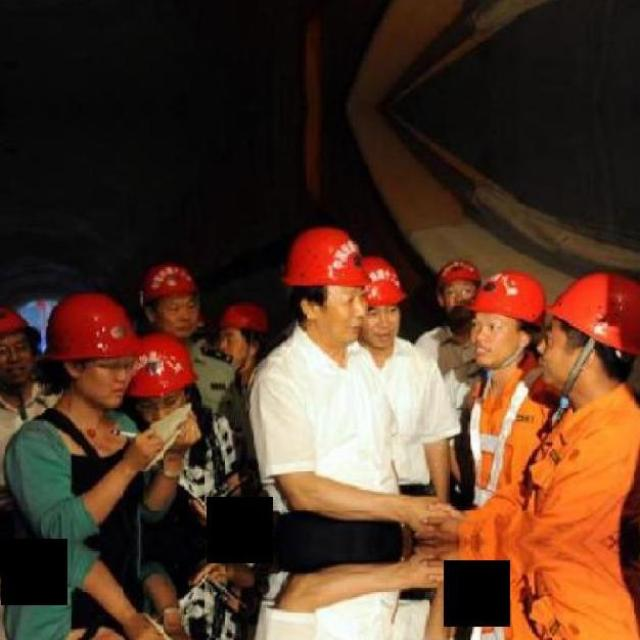red helmet: (544, 273, 640, 361), (44, 292, 138, 364), (283, 226, 368, 287), (125, 335, 201, 390), (468, 269, 545, 321), (364, 257, 412, 312), (142, 265, 203, 300), (221, 300, 271, 333), (2, 301, 37, 338), (440, 260, 481, 289)
